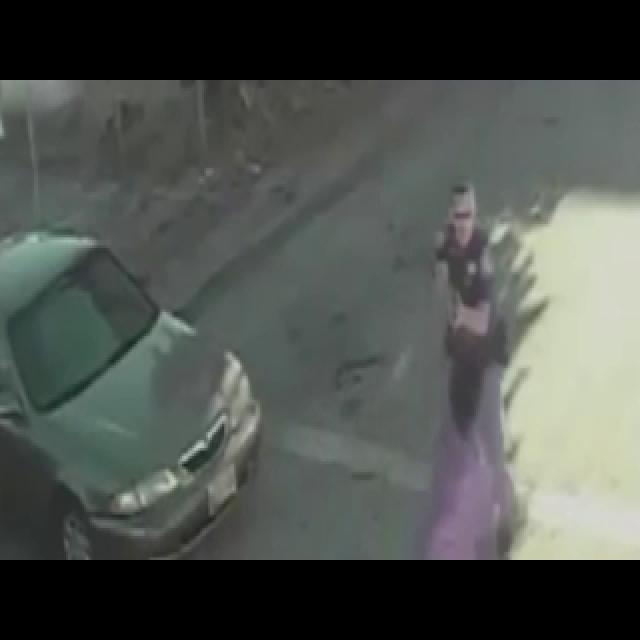shooting: (262, 0, 582, 563)
